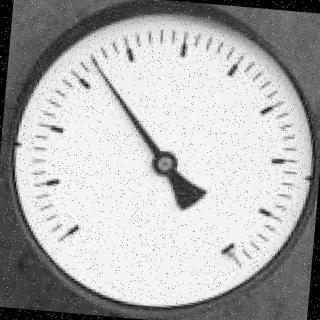gauge: (0, 0, 320, 320), (48, 194, 106, 261), (207, 234, 260, 282), (150, 149, 179, 177), (85, 53, 97, 65)
